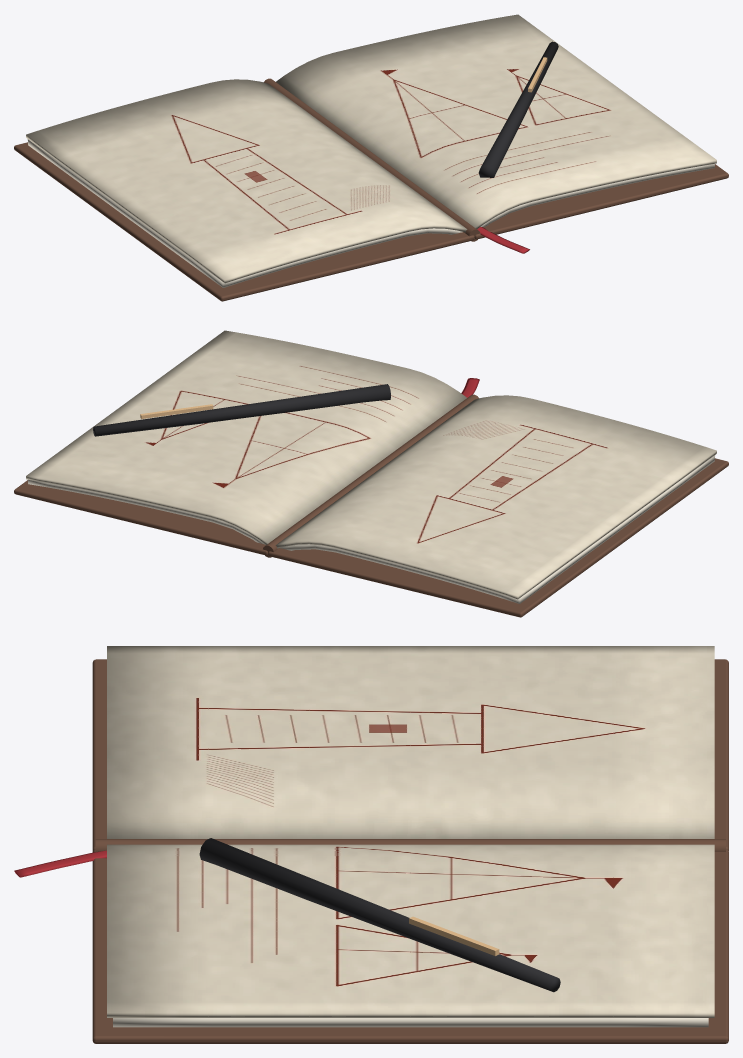
File: studio_notebook_webp.glb
3 renders of one model, top to bottom at view 1: azimuth 30°, elevation 25°; view 2: azimuth 150°, elevation 25°; view 3: azimuth 270°, elevation 25°, orthographic. The views are drawn at different scales.
Visible parts, largest first — view 1: NOTE_Page_R_Sheet, NOTE_Page_L_Sheet, NOTE_Cover_Back_Board, NOTE_Cover_Front_Board, NOTE_PageBlock_L_Mesh, NOTE_Pen, NOTE_Spine, NOTE_PageBlock_R_Mesh; view 2: NOTE_Page_L_Sheet, NOTE_Page_R_Sheet, NOTE_Cover_Back_Board, NOTE_Cover_Front_Board, NOTE_Pen, NOTE_PageBlock_L_Mesh, NOTE_Spine, NOTE_PageBlock_R_Mesh; view 3: NOTE_Page_L_Sheet, NOTE_Page_R_Sheet, NOTE_Cover_Front_Board, NOTE_Pen, NOTE_PageBlock_R_Mesh, NOTE_Cover_Back_Board, NOTE_Spine, NOTE_Pen_Clip, NOTE_Bookmark.
Part boxes in pixels (x1,y1,x2,y2): NOTE_Page_R_Sheet: (276, 14, 716, 228); NOTE_Page_L_Sheet: (26, 79, 467, 283); NOTE_Cover_Back_Board: (14, 142, 474, 301); NOTE_Cover_Front_Board: (474, 164, 728, 239); NOTE_PageBlock_L_Mesh: (27, 139, 462, 287); NOTE_Pen: (478, 41, 558, 177); NOTE_Spine: (264, 78, 479, 241); NOTE_PageBlock_R_Mesh: (480, 164, 714, 226); NOTE_Page_L_Sheet: (275, 395, 716, 599); NOTE_Page_R_Sheet: (26, 330, 466, 544); NOTE_Cover_Back_Board: (268, 458, 728, 617); NOTE_Cover_Front_Board: (14, 480, 268, 555); NOTE_Pen: (93, 384, 390, 436); NOTE_PageBlock_L_Mesh: (280, 455, 715, 603); NOTE_Spine: (263, 394, 478, 557); NOTE_PageBlock_R_Mesh: (28, 480, 263, 543); NOTE_Page_L_Sheet: (107, 646, 714, 838); NOTE_Page_R_Sheet: (107, 844, 714, 1017); NOTE_Cover_Front_Board: (92, 849, 728, 1043); NOTE_Pen: (199, 838, 560, 992); NOTE_PageBlock_R_Mesh: (113, 1018, 708, 1027); NOTE_Cover_Back_Board: (92, 659, 728, 851); NOTE_Spine: (95, 839, 725, 851); NOTE_Pen_Clip: (409, 916, 499, 955); NOTE_Bookmark: (14, 850, 106, 877).
Size of the model in its own units: 0.31 by 0.0229 by 0.2472.
Materials: 6 (1 with a texture image).
